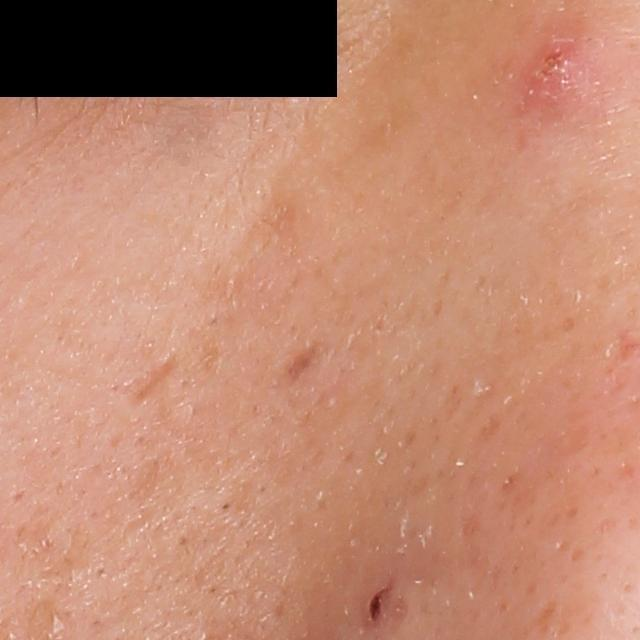atrophic_scar: (122, 356, 183, 422)
papule: (524, 29, 602, 110), (358, 576, 407, 631)
